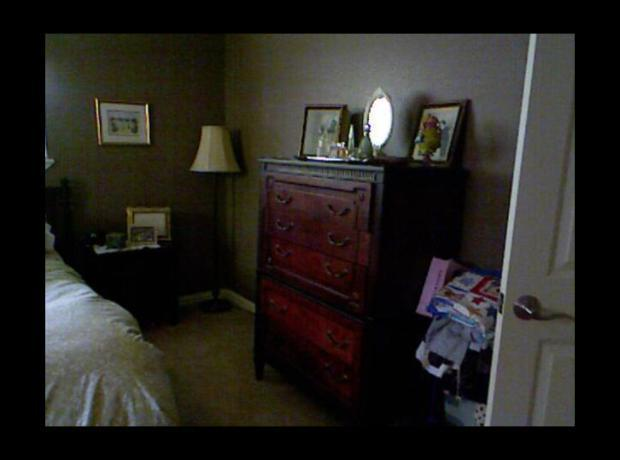Armario: (251, 164, 470, 416)
